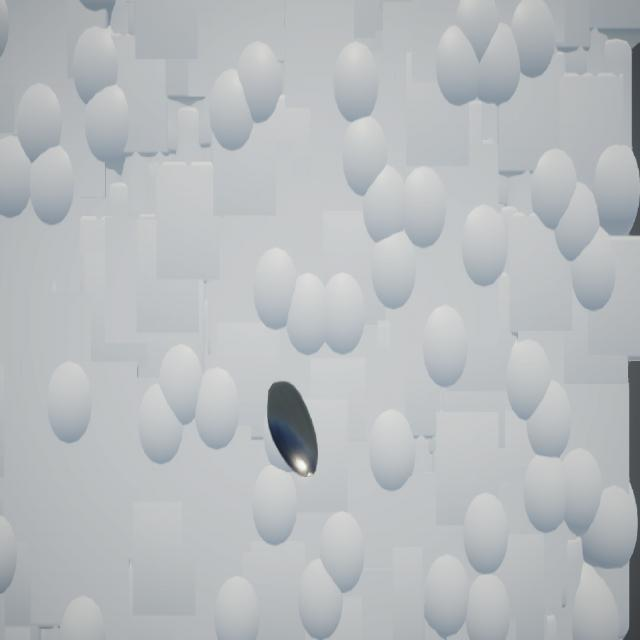top_spoon: (268, 381, 319, 478)
